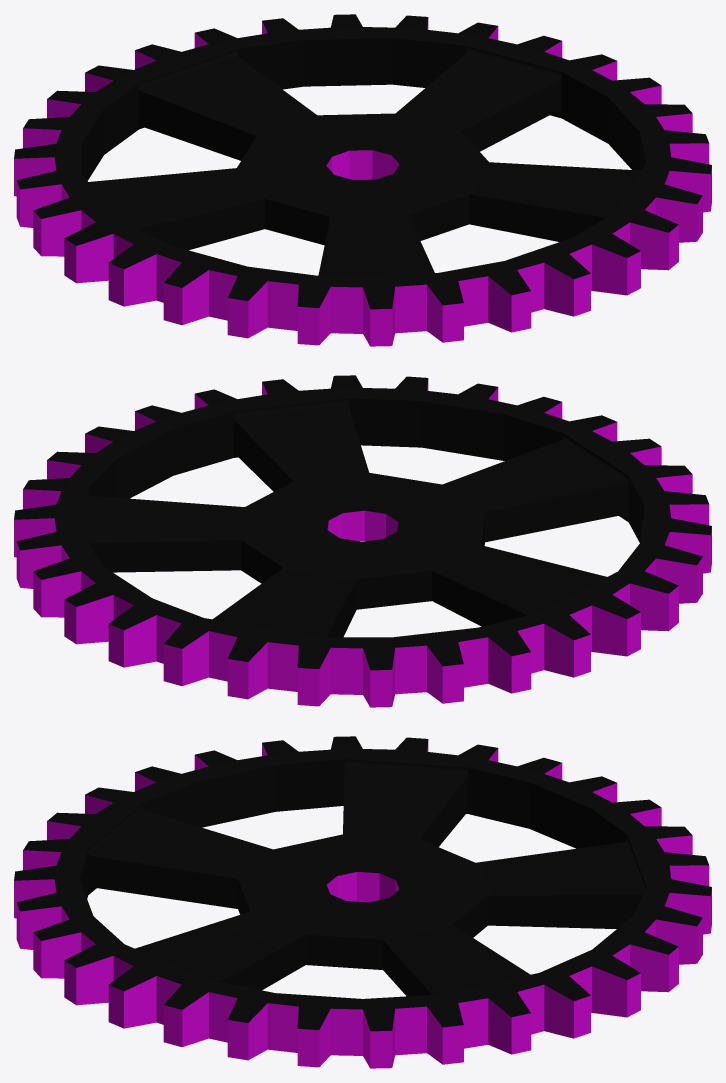
The model's file is D3GearV2.fbx.
3 renders of one model, top to bottom at view 1: azimuth 30°, elevation 25°; view 2: azimuth 150°, elevation 25°; view 3: azimuth 270°, elevation 25°, orthographic.
Visible parts, largest first — view 1: D3GearV2; view 2: D3GearV2; view 3: D3GearV2.
Part boxes in pixels (bbox=[...]): D3GearV2: bbox=[14, 14, 711, 346]; D3GearV2: bbox=[14, 375, 711, 707]; D3GearV2: bbox=[14, 736, 711, 1068].
Size of the model in its own units: 6.79 by 0.5 by 6.79.
